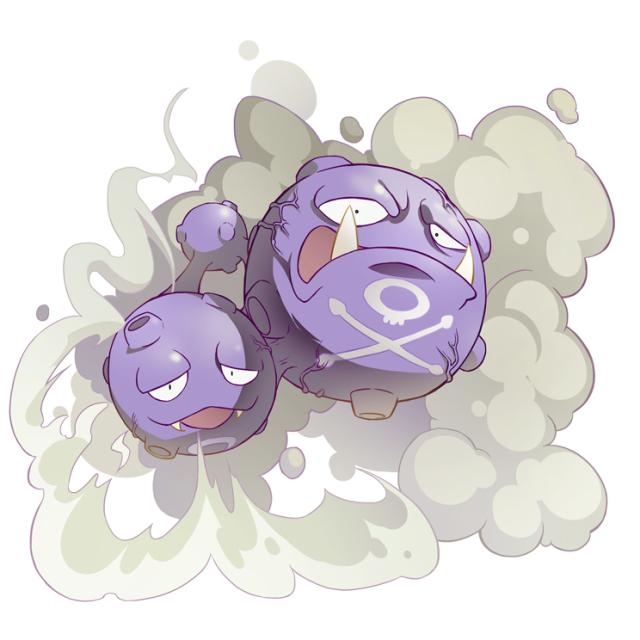Weezing: (104, 158, 496, 458)
